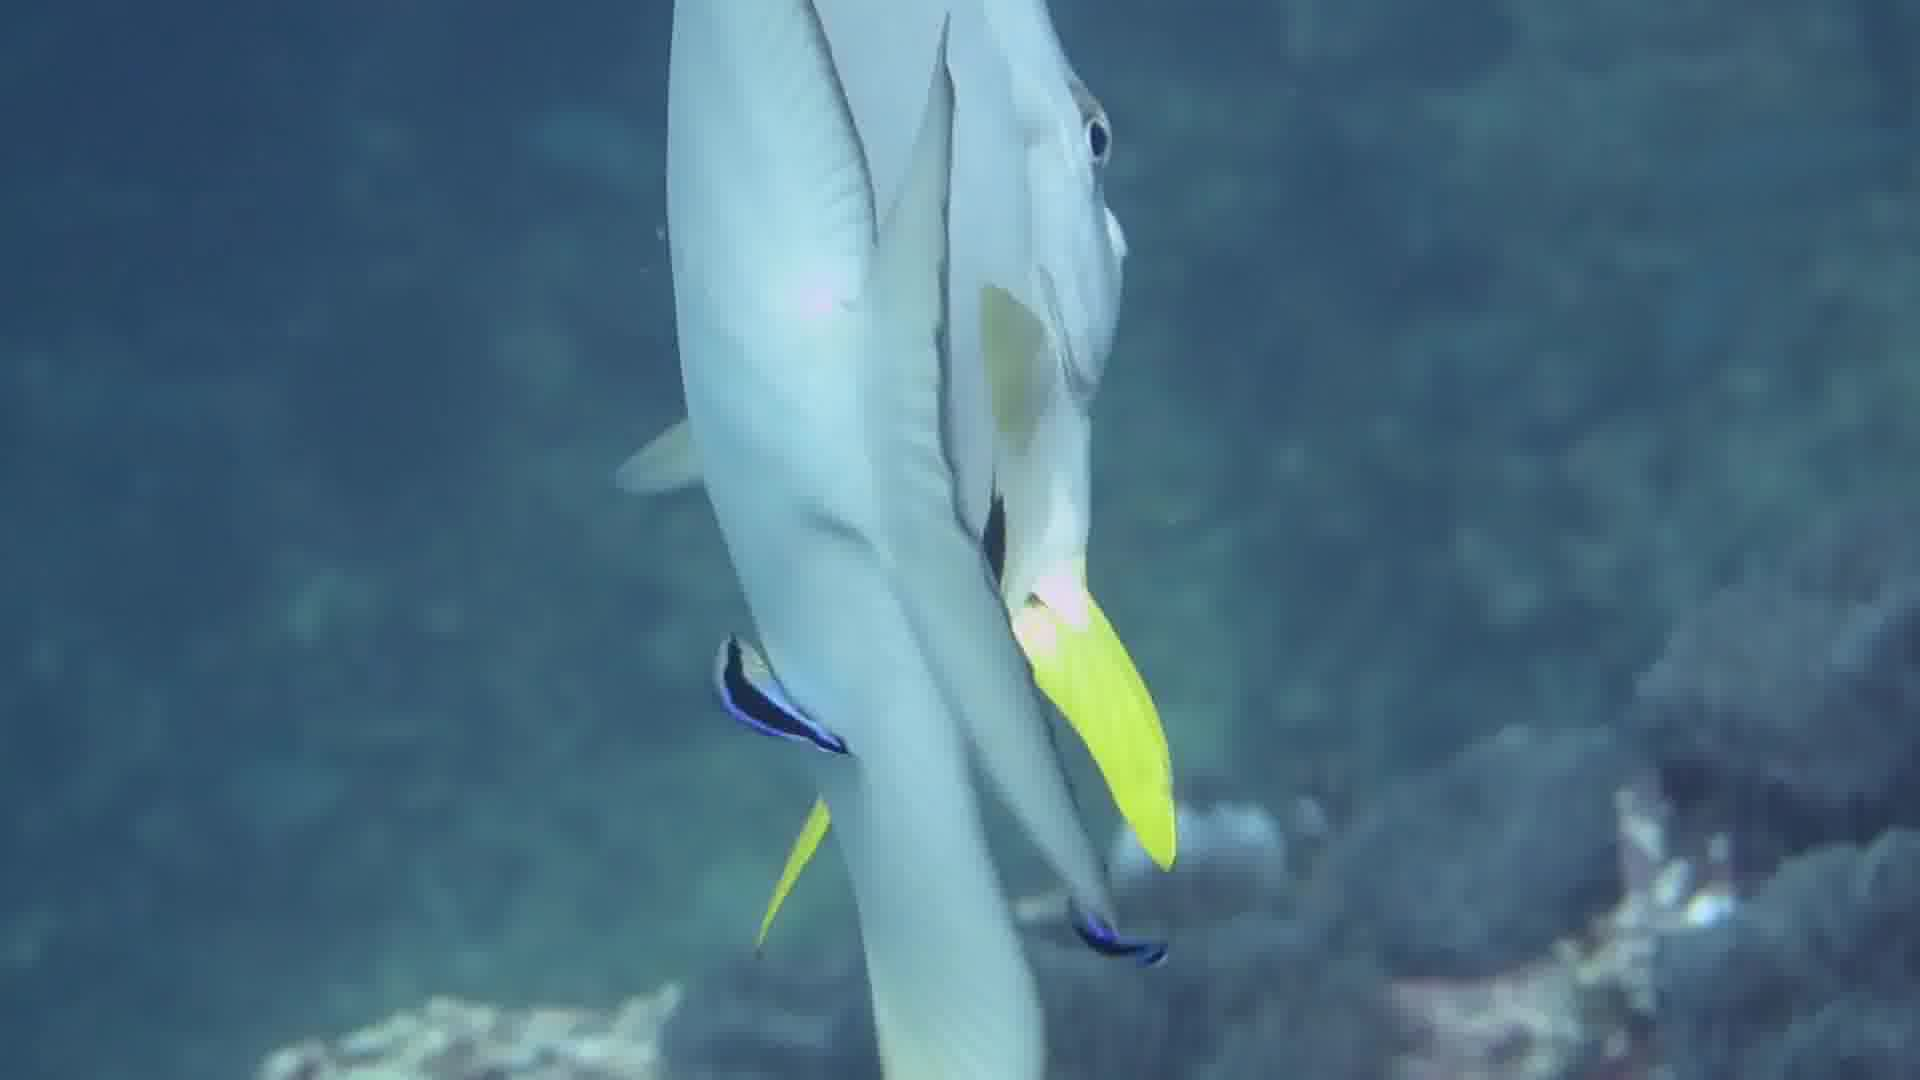Platax teira: (612, 1, 1391, 1080)
